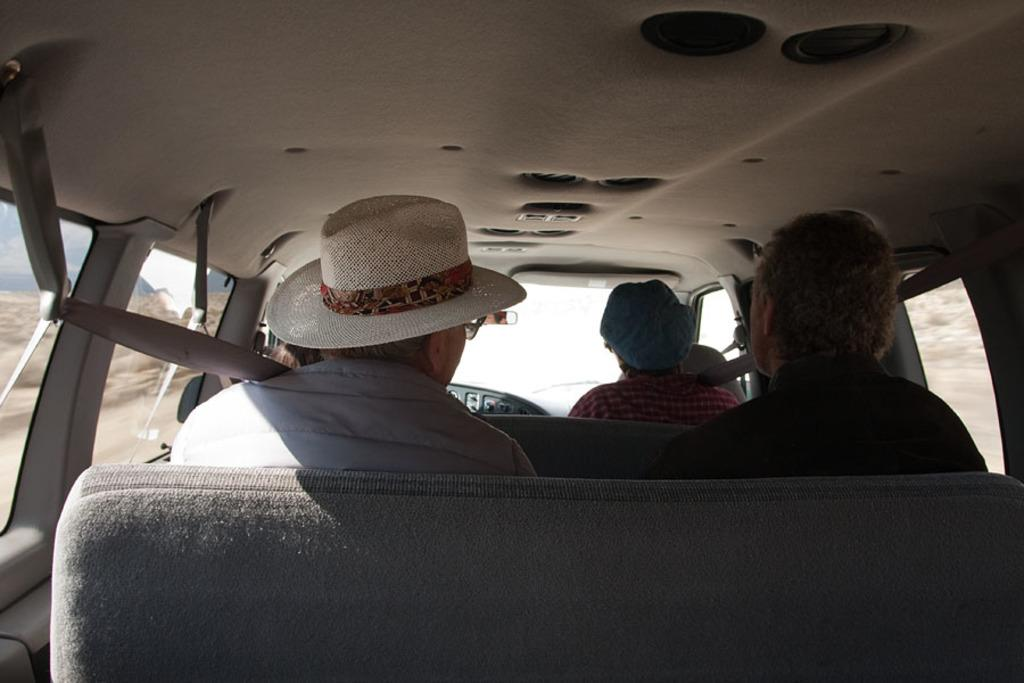Hat: (260, 197, 529, 344), (598, 283, 711, 376)
